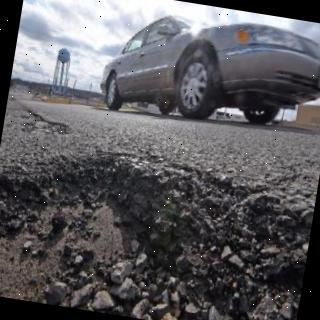pothole: (0, 162, 313, 320)
